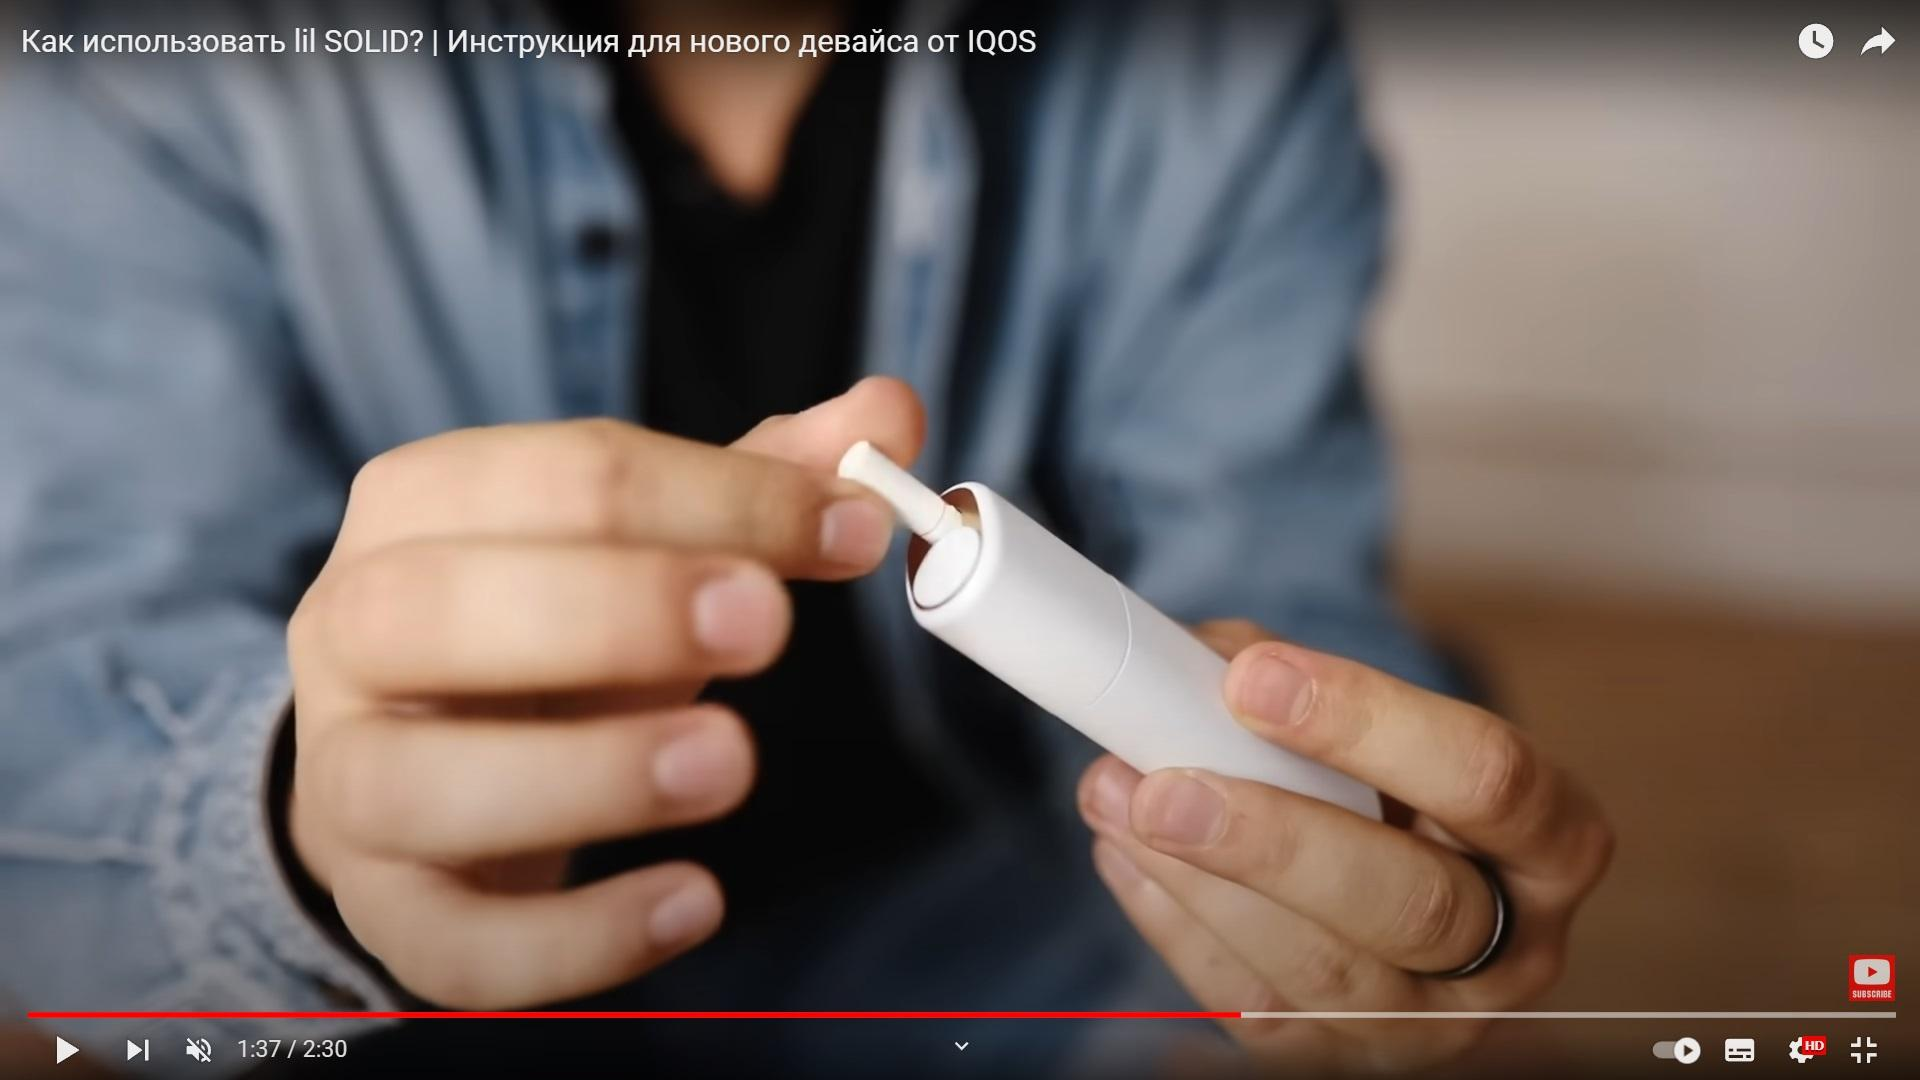iqos: (836, 442, 1382, 818)
